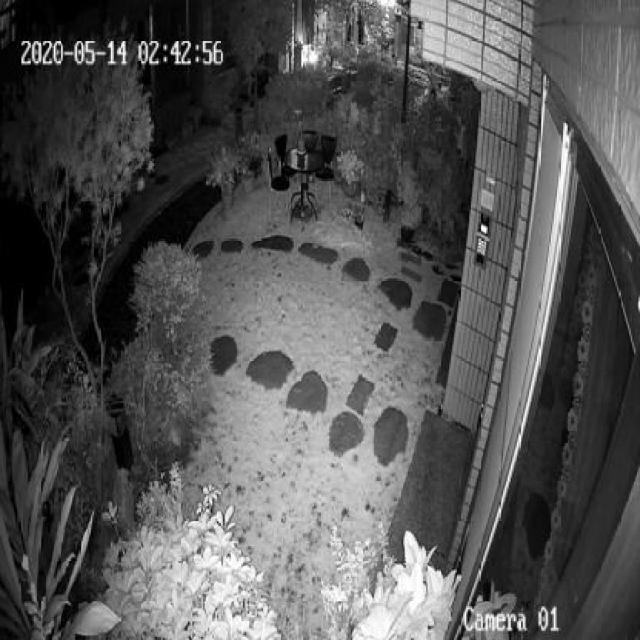animals: (380, 184, 397, 225)
